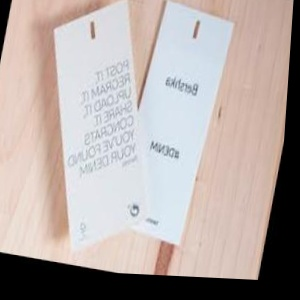bershka: (121, 21, 291, 127)
